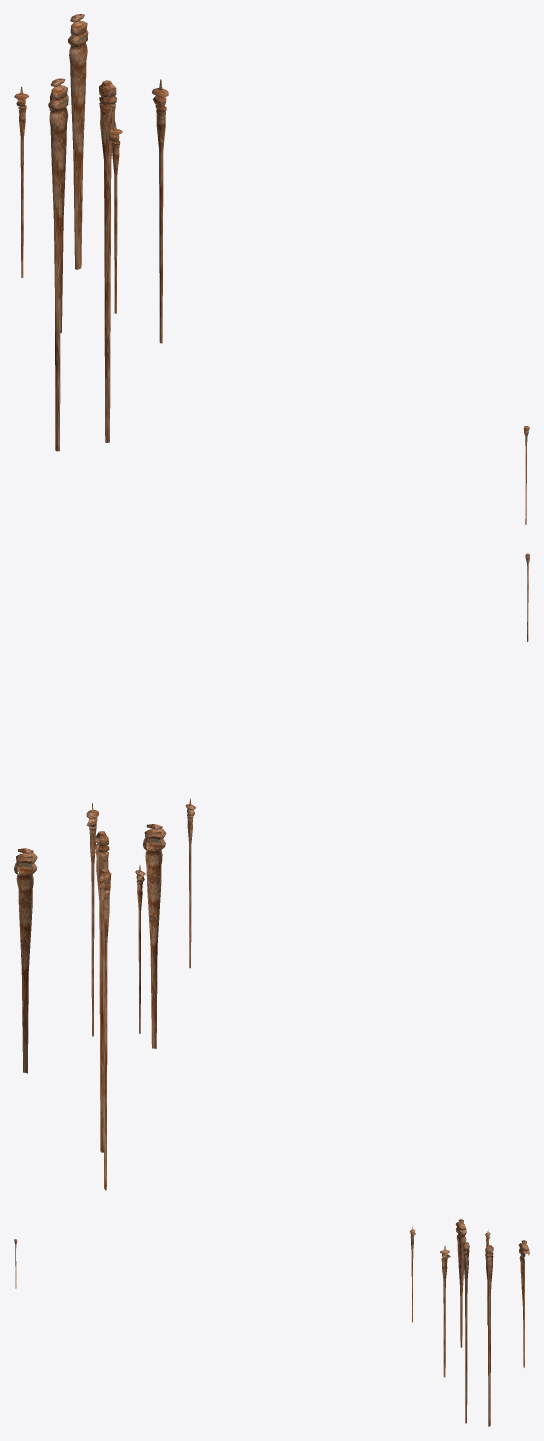
File: Bullet Station 29.fbx
3 renders of one model, top to bottom at view 1: azimuth 30°, elevation 25°; view 2: azimuth 150°, elevation 25°; view 3: azimuth 270°, elevation 25°, orthographic. The views are drawn at different scales.
Visible parts, largest first — view 1: STG08_ON_13; view 2: STG08_ON_13; view 3: STG08_ON_13.
Part boxes in pixels (box(x1,y1,x2,y2)): STG08_ON_13: box(14, 14, 529, 524); STG08_ON_13: box(14, 553, 529, 1190); STG08_ON_13: box(14, 1219, 529, 1426).
Bounding box in the file's own units: 1510773 × 5238139 × 1.23e+07.
